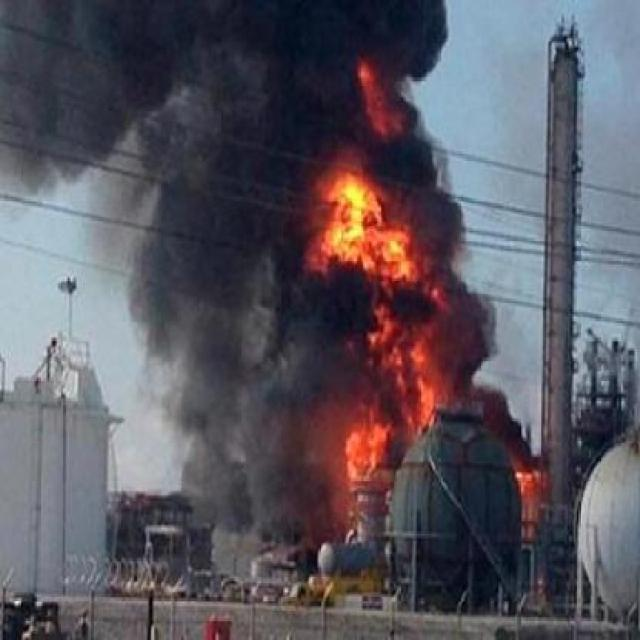Fire: (304, 170, 434, 490), (432, 190, 500, 404), (508, 434, 564, 554)
Smoke: (110, 160, 358, 560), (0, 2, 356, 175), (358, 2, 454, 177)
